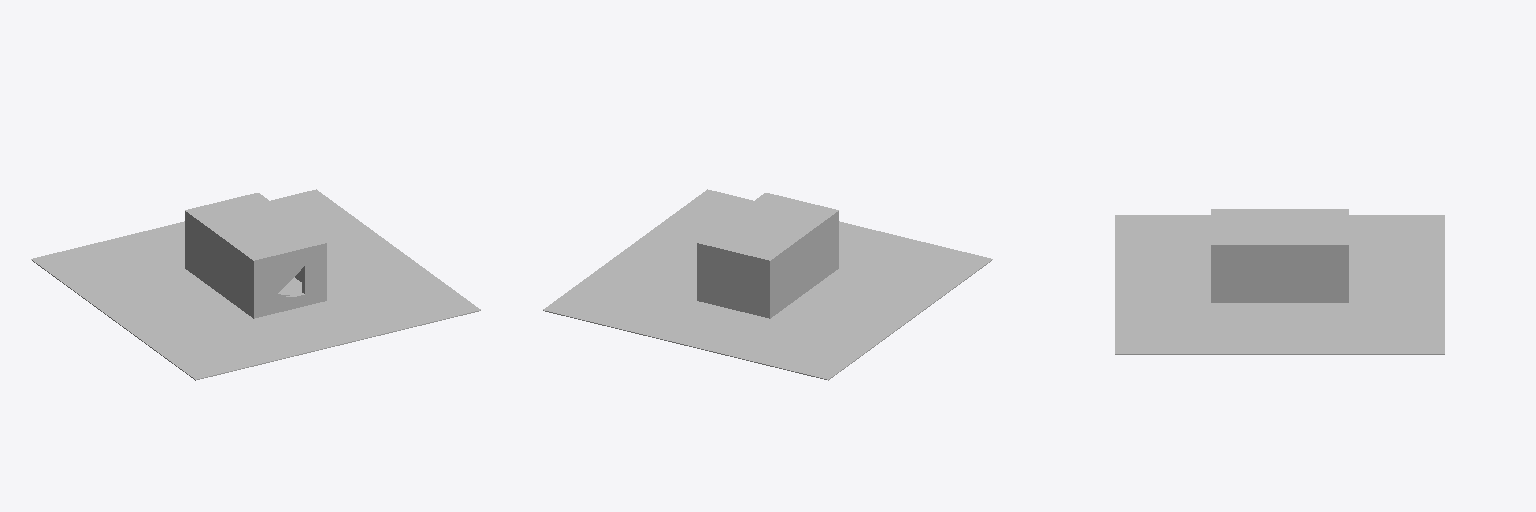
File: room.obj
3 renders of one model, left to right at view 1: azimuth 30°, elevation 25°; view 2: azimuth 150°, elevation 25°; view 3: azimuth 270°, elevation 25°, orthographic.
Parts seen in each view (by area): view 1: Cube_Cube.001, Cube.001_Cube.002; view 2: Cube_Cube.001, Cube.001_Cube.002; view 3: Cube_Cube.001, Cube.001_Cube.002.
Part boxes in pixels (bbox=[...]): Cube_Cube.001: bbox=[31, 189, 480, 380]; Cube.001_Cube.002: bbox=[185, 193, 326, 318]; Cube_Cube.001: bbox=[543, 189, 992, 380]; Cube.001_Cube.002: bbox=[697, 193, 838, 318]; Cube_Cube.001: bbox=[1115, 215, 1444, 354]; Cube.001_Cube.002: bbox=[1211, 209, 1348, 302].
Bounding box in the file's own units: 24.89 × 4.89 × 24.89.